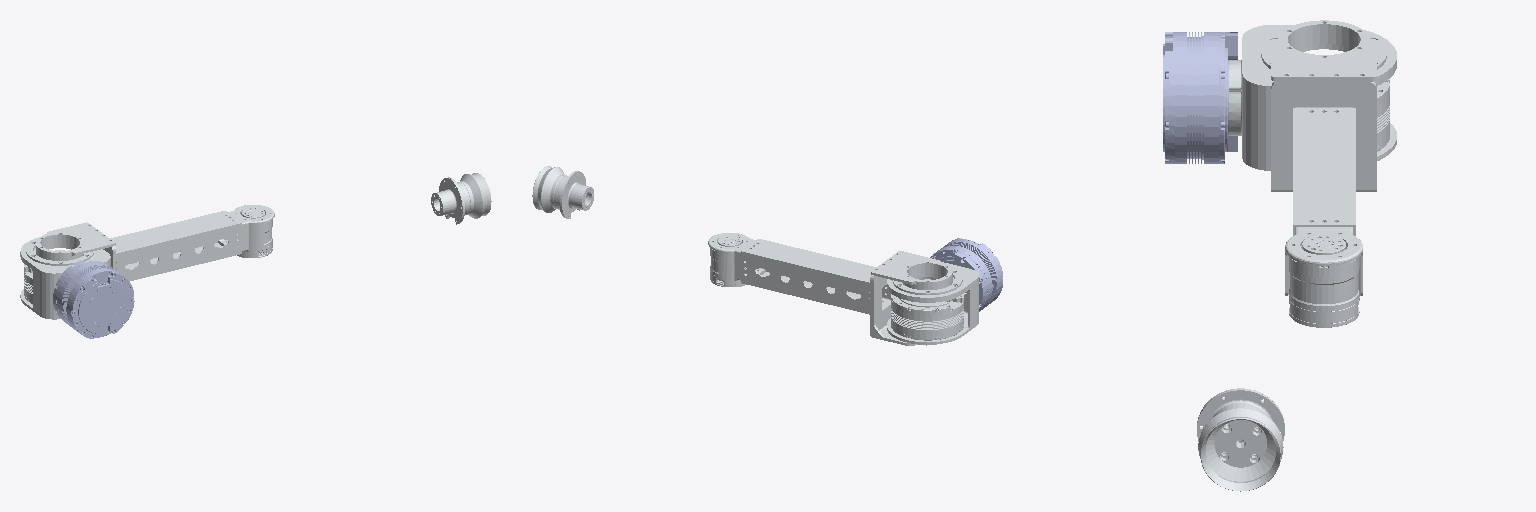
URDF robot description (engineer_arm_urdf):
<?xml version="1.0" encoding="utf-8"?>
<!-- This URDF was automatically created by SolidWorks to URDF Exporter! Originally created by [author] ([email redacted]) 
     Commit Version: 1.6.0-4-g7f85cfe  Build Version: 1.6.7995.38578
     For more information, please see http://wiki.ros.org/sw_urdf_exporter -->
<robot
  name="engineer_arm_urdf">
  <mujoco>
      <compiler 
      meshdir="./meshes/" 
      balanceinertia="true" 
      discardvisual="false" />
  </mujoco>
  <link name="dummy_link">
  </link>
  <link
    name="base_link">
    <inertial>
      <origin
        xyz="-0.00181394454555794 0.0247175436624614 8.39396911295996E-05"
        rpy="0 0 0" />
      <mass
        value="0.879212197102581" />
      <inertia
        ixx="0.0015848"
        ixy="-1.97913779588492E-07"
        ixz="-1.73954370934509E-06"
        iyy="0.0014979"
        iyz="-7.70158458895671E-09"
        izz="0.0016803" />
    </inertial>
    <visual>
      <origin
        xyz="0 0 0"
        rpy="0 0 0" />
      <geometry>
        <mesh
          filename="./meshes/base_link.STL" />
      </geometry>
      <material
        name="">
        <color
          rgba="0.792156862745098 0.819607843137255 0.933333333333333 1" />
      </material>
    </visual>
    <collision>
      <origin
        xyz="0 0 0"
        rpy="0 0 0" />
      <geometry>
        <mesh
          filename="./meshes/base_link.STL" />
      </geometry>
    </collision>
  </link>
  <joint name="dummy" type="fixed">
    <origin xyz="0 0 0" rpy="0 0 0" />
    <parent link="dummy_link" />
    <child link="base_link" />
  </joint>
  <link
    name="link1">
    <inertial>
      <origin
        xyz="0.056000854600132 -6.1834998132837E-05 -0.00164063969604794"
        rpy="0 0 0" />
      <mass
        value="1.27100950864182" />
      <inertia
        ixx="0.0020770"
        ixy="0.0000059"
        ixz="-0.0002232"
        iyy="0.0063972"
        iyz="-0.0000022"
        izz="0.0069407" />
    </inertial>
    <visual>
      <origin
        xyz="0 0 0"
        rpy="0 0 0" />
      <geometry>
        <mesh
          filename="./meshes/link1.STL" />
      </geometry>
      <material
        name="">
        <color
          rgba="0.898039215686275 0.917647058823529 0.929411764705882 1" />
      </material>
    </visual>
    <collision>
      <origin
        xyz="0 0 0"
        rpy="0 0 0" />
      <geometry>
        <mesh
          filename="./meshes/link1.STL" />
      </geometry>
    </collision>
  </link>
  <joint
    name="joint1"
    type="continuous">
    <origin
      xyz="0 0.061 0"
      rpy="0 0 1.5707963267949" />
    <parent
      link="base_link" />
    <child
      link="link1" />
    <axis
      xyz="-1 0 0" />
    <limit
      lower="0"
      upper="0"
      effort="0"
      velocity="0" />
  </joint>
  <link
    name="link2">
    <inertial>
      <origin
        xyz="-0.015433671666134 2.6144608808315E-06 0.189043916479842"
        rpy="0 0 0" />
      <mass
        value="1.06003207402486" />
      <inertia
        ixx="0.0626877"
        ixy="0.0"
        ixz="-0.0031933"
        iyy="0.0634036"
        iyz="0.0000009"
        izz="0.0015546" />
    </inertial>
    <visual>
      <origin
        xyz="0 0 0"
        rpy="0 0 0" />
      <geometry>
        <mesh
          filename="./meshes/link2.STL" />
      </geometry>
      <material
        name="">
        <color
          rgba="0.898039215686275 0.917647058823529 0.929411764705882 1" />
      </material>
    </visual>
    <collision>
      <origin
        xyz="0 0 0"
        rpy="0 0 0" />
      <geometry>
        <mesh
          filename="./meshes/link2.STL" />
      </geometry>
    </collision>
  </link>
  <joint
    name="joint2"
    type="continuous">
    <origin
      xyz="0.0649999999999999 0 0.0145"
      rpy="1.5707963267949 -1.5707963267949 0" />
    <parent
      link="link1" />
    <child
      link="link2" />
    <axis
      xyz="-1 0 0" />
    <limit
      lower="0"
      upper="0"
      effort="0"
      velocity="0" />
  </joint>
  <link
    name="link3">
    <inertial>
      <origin
        xyz="0.0328573437408591 0.000118784068100286 -0.187894192781923"
        rpy="0 0 0" />
      <mass
        value="0.513825207873787" />
      <inertia
        ixx="0.0250230"
        ixy="0.0000021"
        ixz="-0.0037718"
        iyy="0.0256084"
        iyz="-0.0000156"
        izz="0.0008140" />
    </inertial>
    <visual>
      <origin
        xyz="0 0 0"
        rpy="0 0 0" />
      <geometry>
        <mesh
          filename="./meshes/link3.STL" />
      </geometry>
      <material
        name="">
        <color
          rgba="0.898039215686275 0.917647058823529 0.929411764705882 1" />
      </material>
    </visual>
    <collision>
      <origin
        xyz="0 0 0"
        rpy="0 0 0" />
      <geometry>
        <mesh
          filename="./meshes/link3.STL" />
      </geometry>
    </collision>
  </link>
  <joint
    name="joint3"
    type="continuous">
    <origin
      xyz="0.00930000000000006 0 0.325"
      rpy="-3.14159265358979 0 0" />
    <parent
      link="link2" />
    <child
      link="link3" />
    <axis
      xyz="-1 0 0" />
    <limit
      lower="0"
      upper="0"
      effort="0"
      velocity="0" />
  </joint>
  <link
    name="link4">
    <inertial>
      <origin
        xyz="-0.0321935302713612 -0.00380223583040232 -0.000173813491123331"
        rpy="0 0 0" />
      <mass
        value="0.350378887571842" />
      <inertia
        ixx="0.0001795"
        ixy="0.0000452"
        ixz="0.0000021"
        iyy="0.0005659"
        iyz="0.0000005"
        izz="0.0005561" />
    </inertial>
    <visual>
      <origin
        xyz="0 0 0"
        rpy="0 0 0" />
      <geometry>
        <mesh
          filename="./meshes/link4.STL" />
      </geometry>
      <material
        name="">
        <color
          rgba="0.898039215686275 0.917647058823529 0.929411764705882 1" />
      </material>
    </visual>
    <collision>
      <origin
        xyz="0 0 0"
        rpy="0 0 0" />
      <geometry>
        <mesh
          filename="./meshes/link4.STL" />
      </geometry>
    </collision>
  </link>
  <joint
    name="joint4"
    type="continuous">
    <origin
      xyz="0.0112000000000001 0 -0.240000000000001"
      rpy="0 0 0" />
    <parent
      link="link3" />
    <child
      link="link4" />
    <axis
      xyz="-1 0 0" />
    <limit
      lower="0"
      upper="0"
      effort="0"
      velocity="0" />
  </joint>
  <link
    name="link5">
    <inertial>
      <origin
        xyz="0.0331935302713713 -0.000173813491137185 -0.00380223583039918"
        rpy="0 0 0" />
      <mass
        value="0.350378887571855" />
      <inertia
        ixx="0.0001795"
        ixy="-0.0000021"
        ixz="-0.0000466"
        iyy="0.0005791"
        iyz="0.0000005"
        izz="0.0005889" />
    </inertial>
    <visual>
      <origin
        xyz="0 0 0"
        rpy="0 0 0" />
      <geometry>
        <mesh
          filename="./meshes/link5.STL" />
      </geometry>
      <material
        name="">
        <color
          rgba="0.898039215686275 0.917647058823529 0.929411764705882 1" />
      </material>
    </visual>
    <collision>
      <origin
        xyz="0 0 0"
        rpy="0 0 0" />
      <geometry>
        <mesh
          filename="./meshes/link5.STL" />
      </geometry>
    </collision>
  </link>
  <joint
    name="joint5"
    type="continuous">
    <origin
      xyz="-0.0349999999999875 -0.03 0"
      rpy="0 0 -1.5707963267949" />
    <parent
      link="link4" />
    <child
      link="link5" />
    <axis
      xyz="-1 0 0" />
    <limit
      lower="0"
      upper="0"
      effort="0"
      velocity="0" />
  </joint>
  <link
    name="link6">
    <inertial>
      <origin
        xyz="-0.0203388381591695 -5.59495728582118E-05 -0.000683683023469682"
        rpy="0 0 0" />
      <mass
        value="0.183107517761054" />
      <inertia
        ixx="0.0000751"
        ixy="1.56460728162457E-08"
        ixz="1.91248815451878E-07"
        iyy="0.0001502"
        iyz="2.50770687569931E-07"
        izz="0.0001531" />
    </inertial>
    <visual>
      <origin
        xyz="0 0 0"
        rpy="0 0 0" />
      <geometry>
        <mesh
          filename="./meshes/link6.STL" />
      </geometry>
      <material
        name="">
        <color
          rgba="0.898039215686275 0.917647058823529 0.929411764705882 1" />
      </material>
    </visual>
    <collision>
      <origin
        xyz="0 0 0"
        rpy="0 0 0" />
      <geometry>
        <mesh
          filename="./meshes/link6.STL" />
      </geometry>
    </collision>
  </link>
  <joint
    name="joint6"
    type="continuous">
    <origin
      xyz="0.0359999999999991 0 -0.0830000000000004"
      rpy="1.5707963267949 1.5707963267949 0" />
    <parent
      link="link5" />
    <child
      link="link6" />
    <axis
      xyz="1 0 0" />
    <limit
      lower="0"
      upper="0"
      effort="0"
      velocity="0" />
  </joint>
</robot>

--- Facts derived from the render (not from the file) ---
3 views of the same robot in one strip: view 1: azimuth 30°, elevation 25°; view 2: azimuth 150°, elevation 25°; view 3: azimuth 270°, elevation 25° (orthographic).
Robot: engineer_arm_urdf — 8 links, 7 joints (6 continuous, 1 fixed); root link dummy_link; default pose: every joint at zero.
Links seen in each view (by area): view 1: link2, base_link, link1, link6; view 2: link2, link1, link6, base_link; view 3: link2, base_link, link6, link1.
Link boxes in pixels (box(x1,y1,x2,y2)): link2: box(36, 205, 274, 281); base_link: box(53, 260, 134, 338); link1: box(20, 238, 110, 319); link6: box(431, 173, 491, 224); link2: box(708, 233, 952, 345); link1: box(887, 262, 978, 344); link6: box(532, 166, 593, 218); base_link: box(930, 238, 1002, 311); link2: box(1271, 20, 1376, 327); base_link: box(1163, 32, 1237, 163); link6: box(1197, 388, 1284, 491); link1: box(1229, 25, 1396, 170).
Size in the robot's own frame: 0.7275 by 0.186 by 0.105 metres.
4 mesh visuals loaded from 7 distinct referenced files (4 binary STL); not drawn: 3 (reference not matched to a file when rendering).